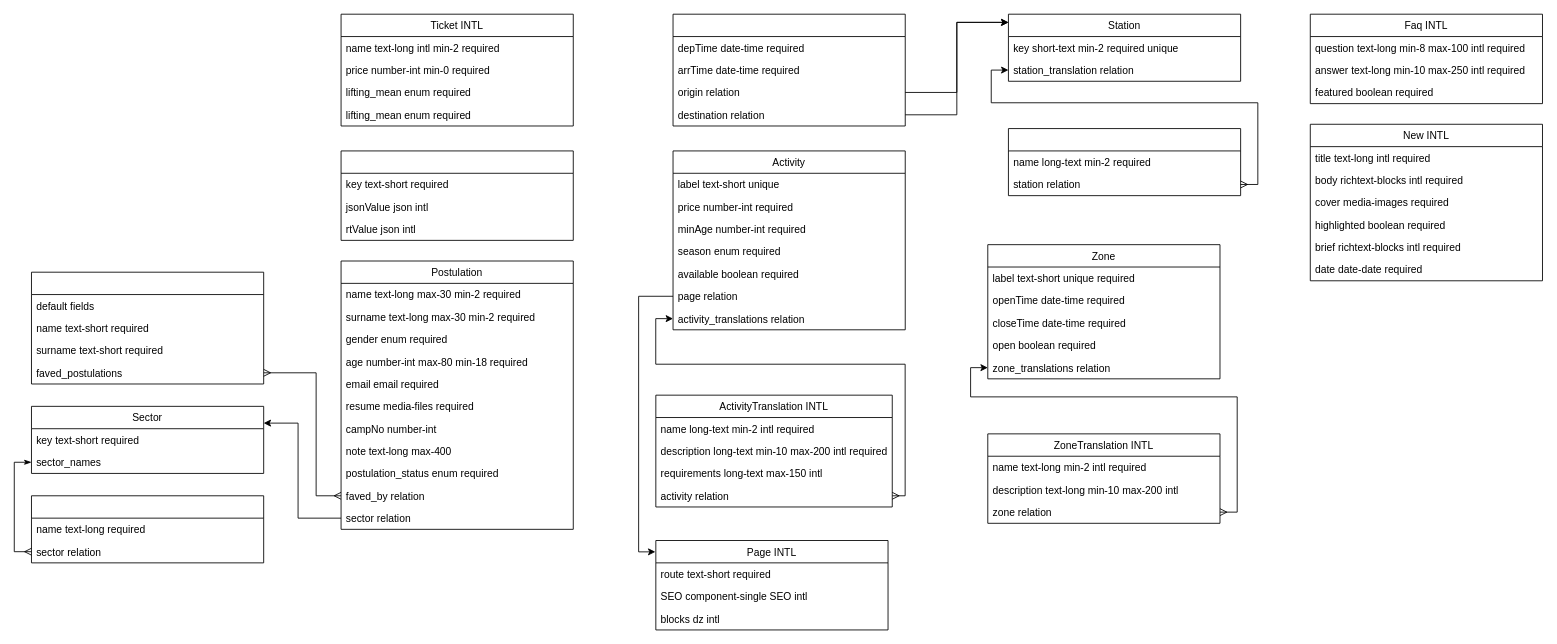
This 1557x644 diagram has some shape labels left out. Here are the shapes that lost their labels. From the top down, the box of each, then its label:
(672, 13, 905, 126): BusTrip
(1008, 128, 1241, 196): StationTranslation INTL
(340, 150, 573, 240): ComponentTranlation INTL
(31, 271, 264, 384): User
(31, 495, 264, 563): SectorName INTL
